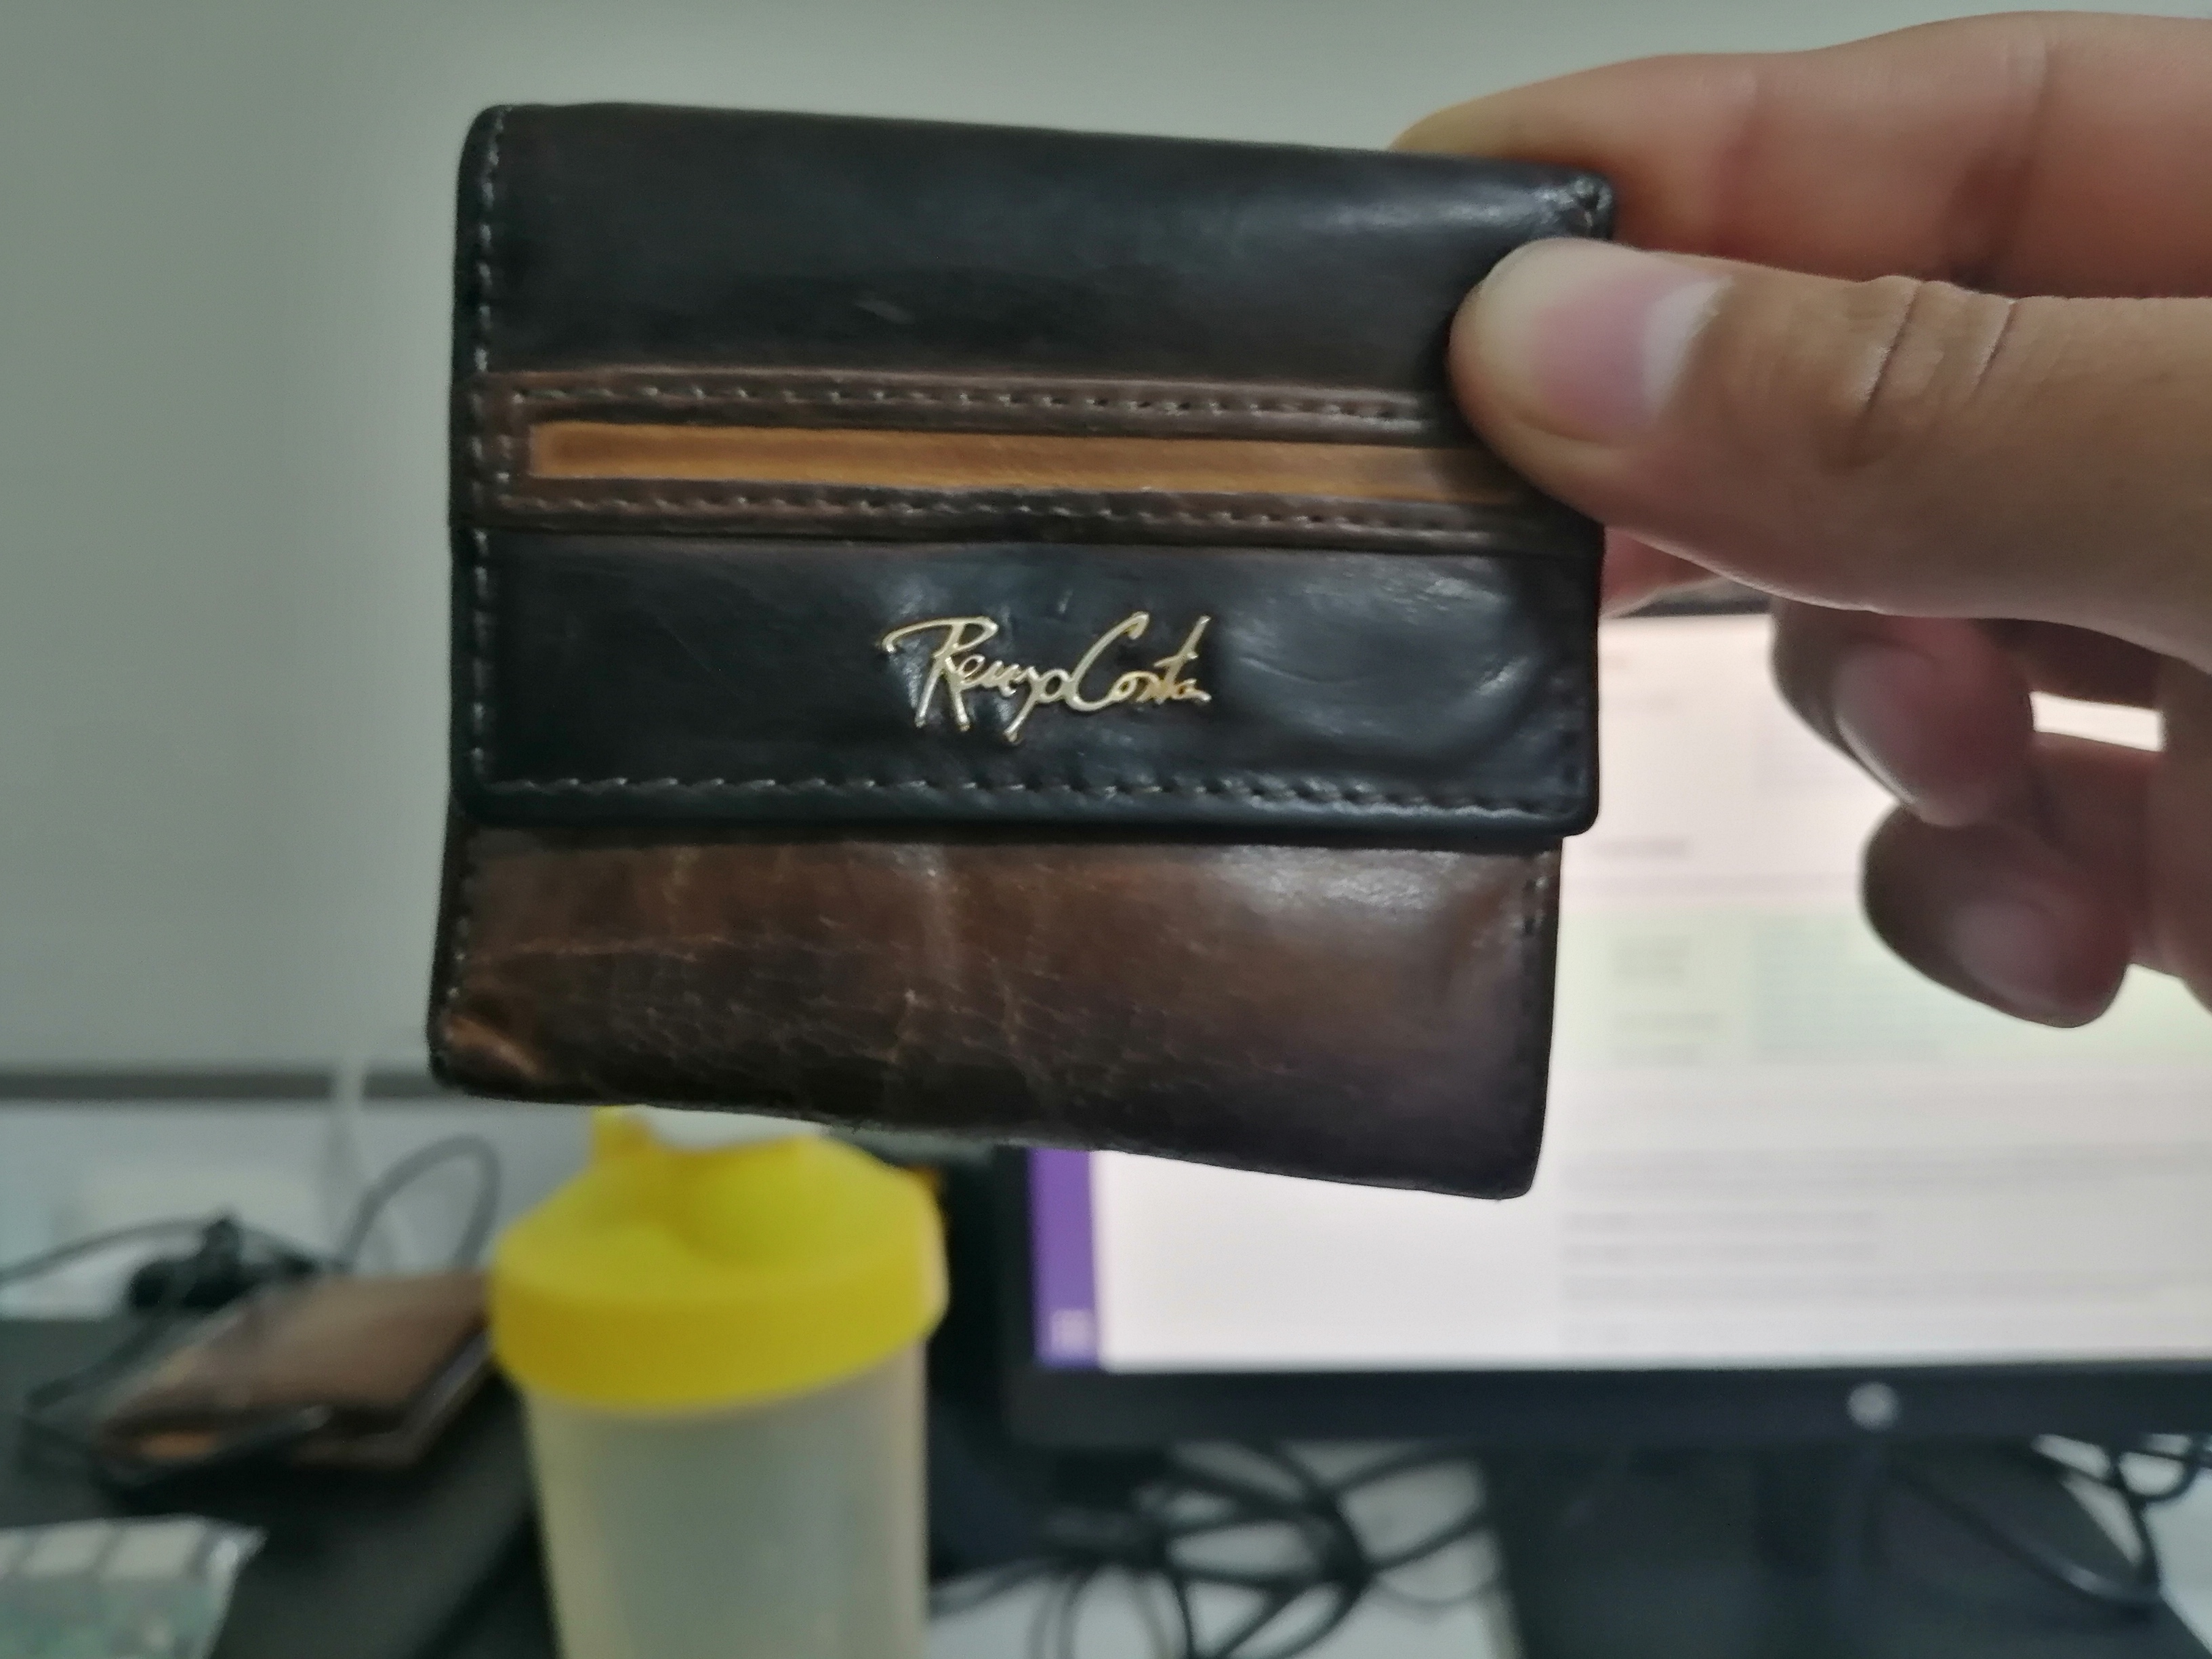monedero: (404, 78, 1642, 1256)
